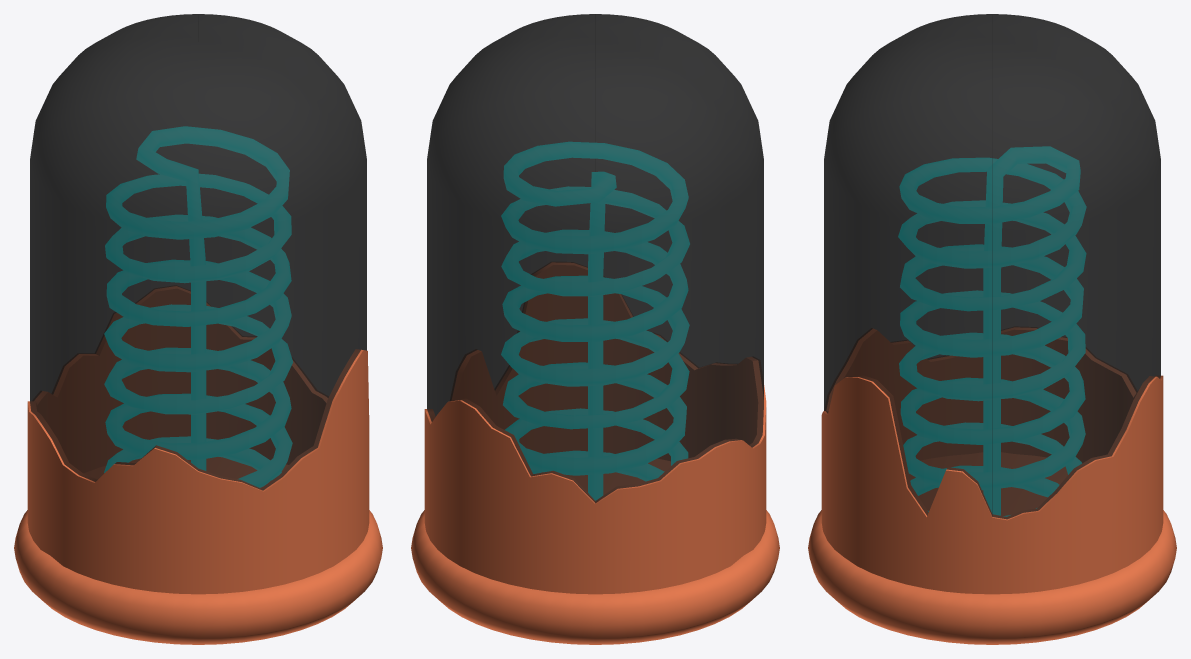
File: SP_Tower01_Bulb01.fbx
3 views of the same model, side by side, from view 1: azimuth 30°, elevation 25°; view 2: azimuth 150°, elevation 25°; view 3: azimuth 270°, elevation 25° (orthographic).
Parts seen in each view (by area): view 1: SP_Tower01_Bulb01; view 2: SP_Tower01_Bulb01; view 3: SP_Tower01_Bulb01.
Boxes of the visible parts, bbox=[...] form: SP_Tower01_Bulb01: bbox=[14, 14, 382, 644]; SP_Tower01_Bulb01: bbox=[411, 14, 779, 644]; SP_Tower01_Bulb01: bbox=[808, 14, 1176, 644].
Size of the model in its own units: 4.53 by 7.22 by 4.53.
